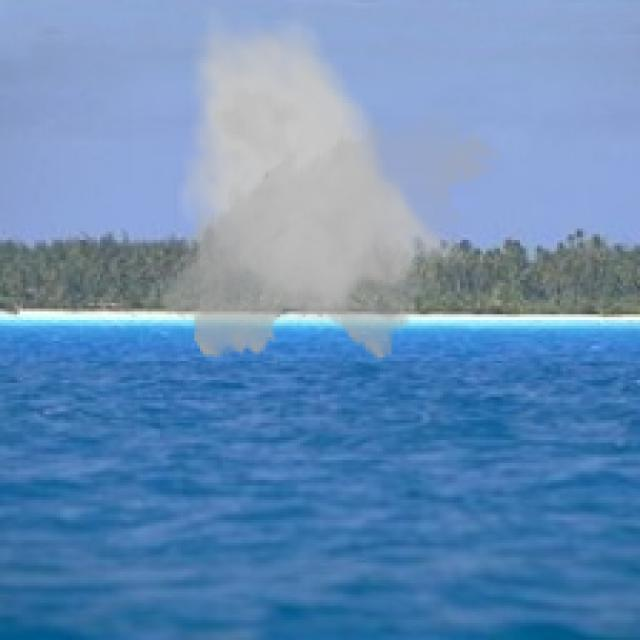Smoke: (148, 6, 503, 368)
